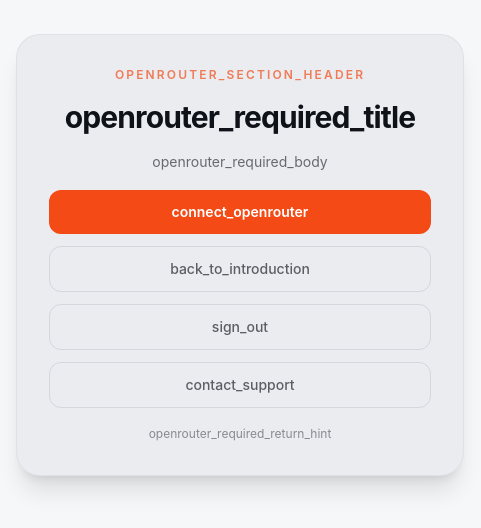
OpenRouterRequiredPage › shows connect errors without writing stale PKCE session state
The width and height of the screenshot is (481, 528).
Step 1. Click the button "connect_openrouter" → click(240, 212), box 49,190 -> 431,234
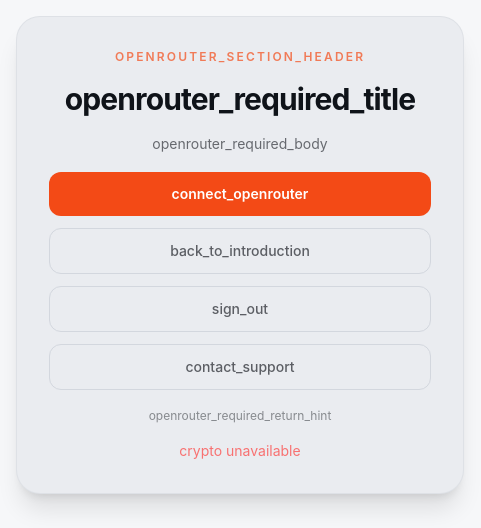
Expected: the text "crypto unavailable" is shown, 179,442 -> 301,459
